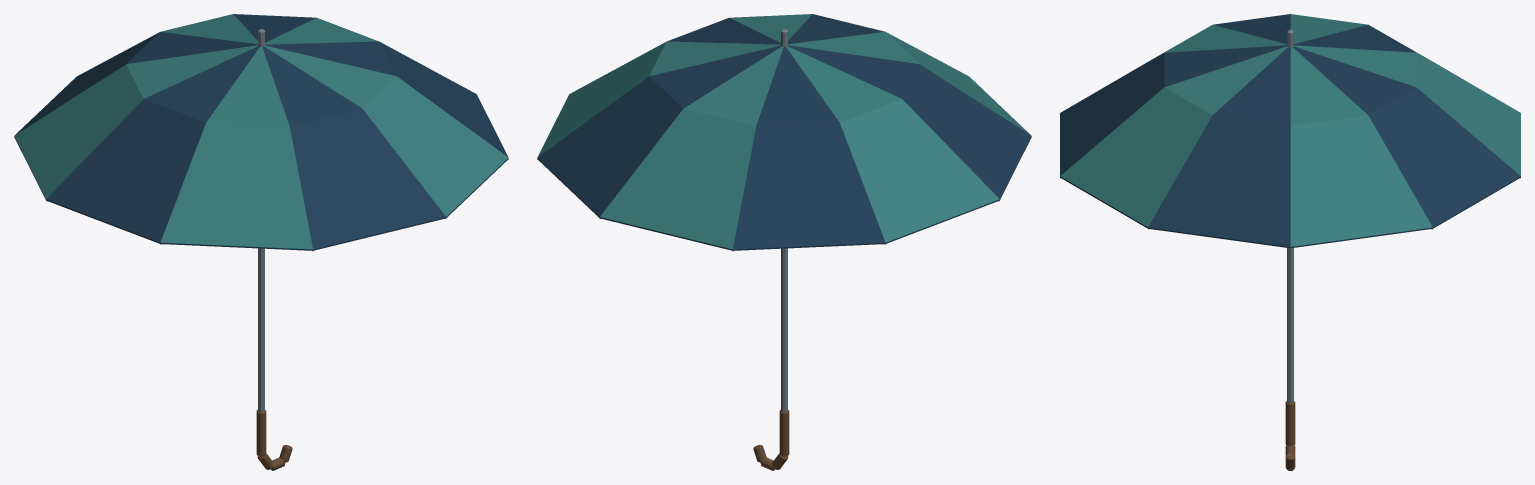
File: b17_open_rain_umbrella.glb
3 renders of one model, left to right at view 1: azimuth 30°, elevation 25°; view 2: azimuth 150°, elevation 25°; view 3: azimuth 270°, elevation 25°, orthographic. The views are drawn at different scales.
Visible parts, largest first — view 1: b17_open_rain_umbrella; view 2: b17_open_rain_umbrella; view 3: b17_open_rain_umbrella.
Boxes of the visible parts, bbox=[...] form: b17_open_rain_umbrella: bbox=[14, 14, 508, 470]; b17_open_rain_umbrella: bbox=[537, 14, 1031, 470]; b17_open_rain_umbrella: bbox=[1060, 14, 1520, 470].
Size of the model in its own units: 1.06 by 1.04 by 1.01.
